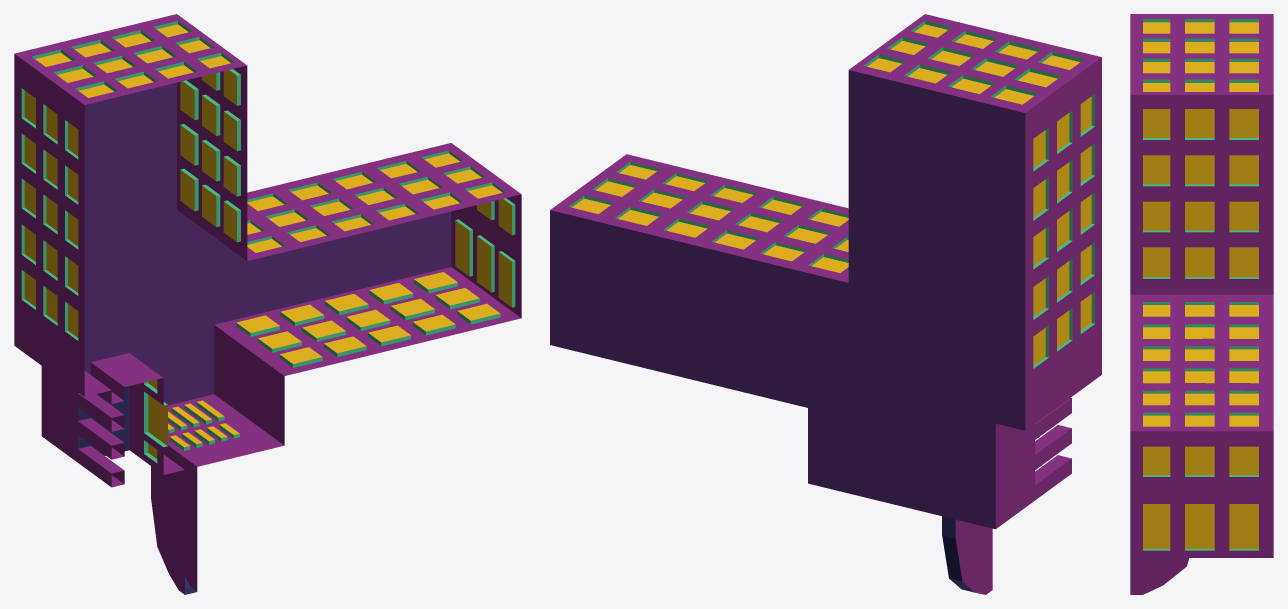
File: Lasy_Państwowe Tier 3.fbx
3 renders of one model, left to right at view 1: azimuth 30°, elevation 25°; view 2: azimuth 150°, elevation 25°; view 3: azimuth 270°, elevation 25°, orthographic. The views are drawn at different scales.
Visible parts, largest first — view 1: Lasy_Panstwowe; view 2: Lasy_Panstwowe; view 3: Lasy_Panstwowe.
Part boxes in pixels (bbox=[...]): Lasy_Panstwowe: bbox=[14, 14, 521, 594]; Lasy_Panstwowe: bbox=[550, 14, 1101, 594]; Lasy_Panstwowe: bbox=[1130, 14, 1273, 594].
Bounding box in the file's own units: 3.76 × 4.23 × 1.05.
